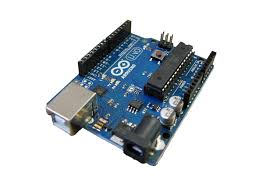arduino: (46, 26, 210, 160)
